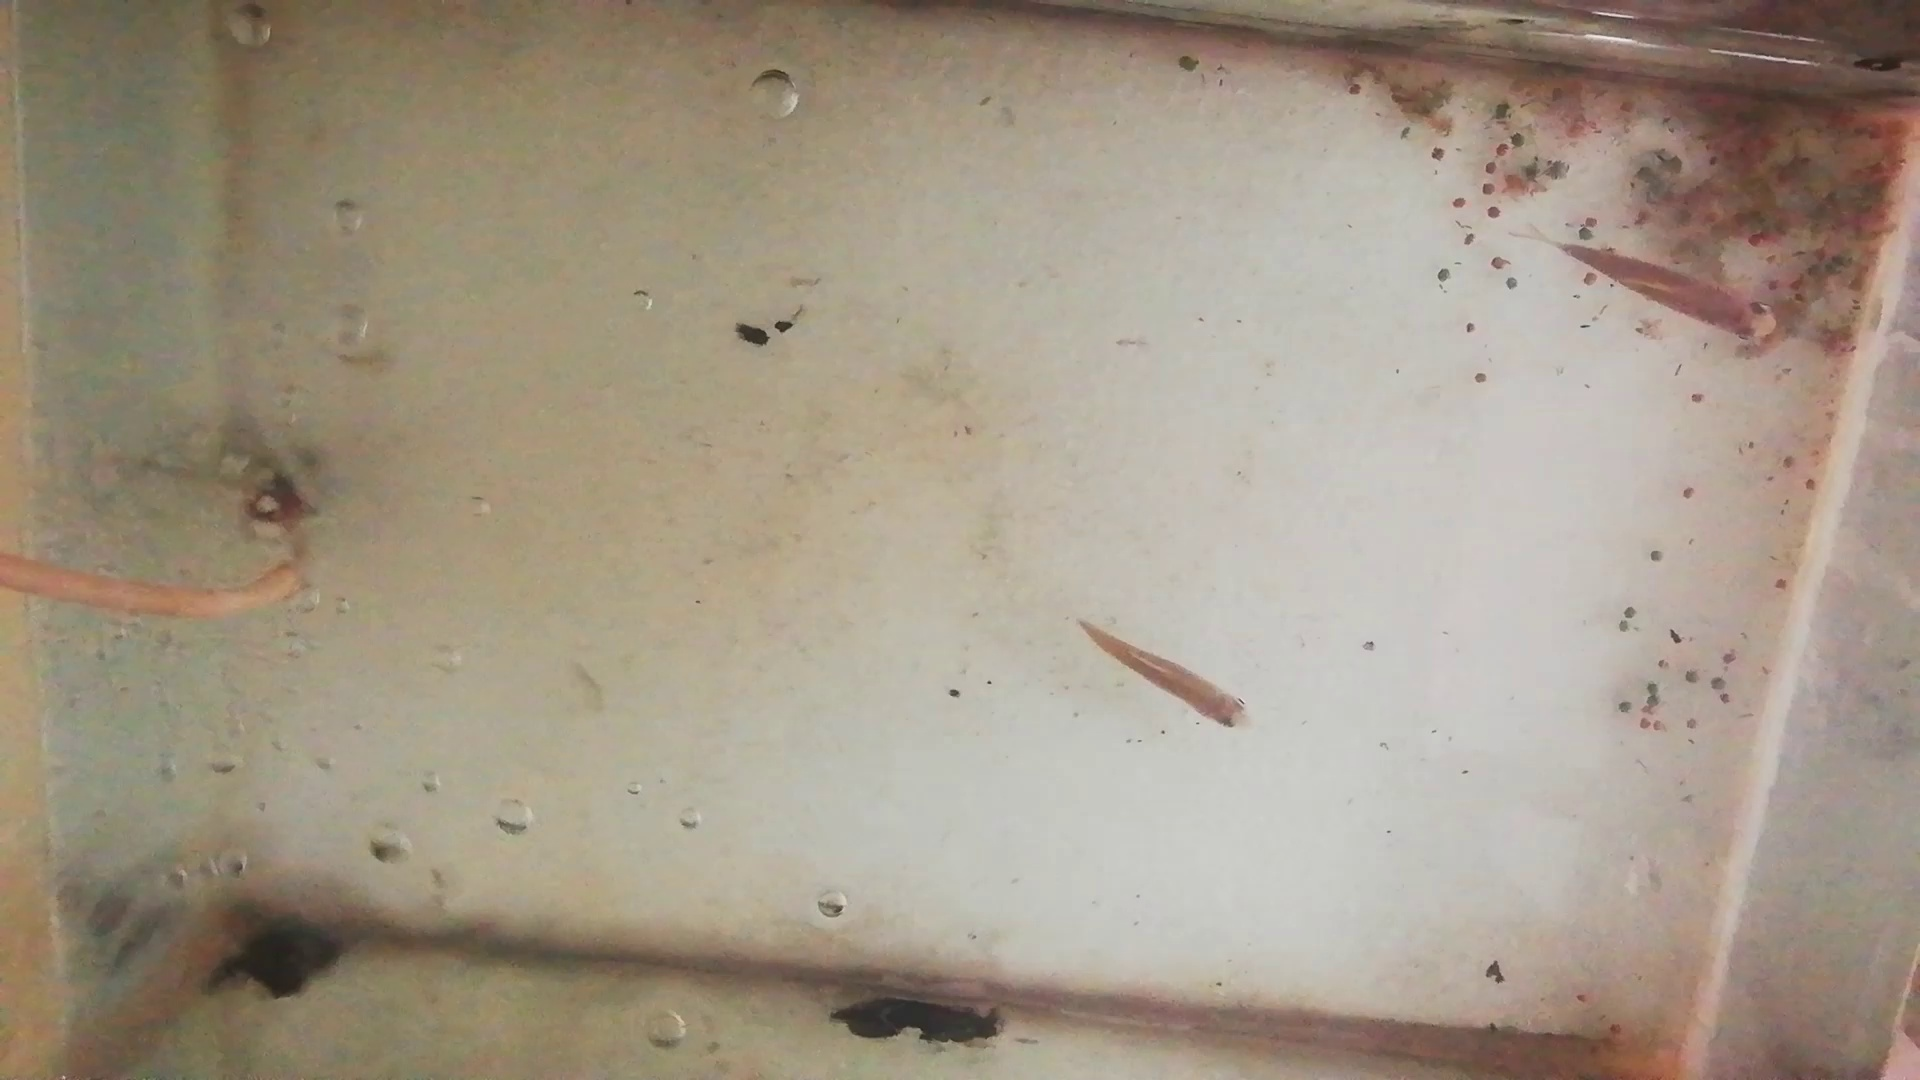fish: (1561, 241, 1778, 345), (1077, 618, 1251, 738)
